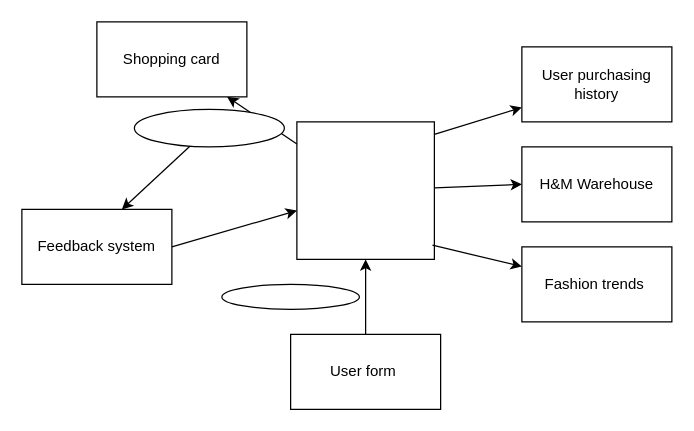
The diagram is 694 pixels wide and 431 high, and some of its shapes have lost their labels. Here are the shapes that lost their labels. From the top down, the centre of each, then its label:
(208,127): Recommendation
(365,190): Recommendation Engine
(290,296): User input
